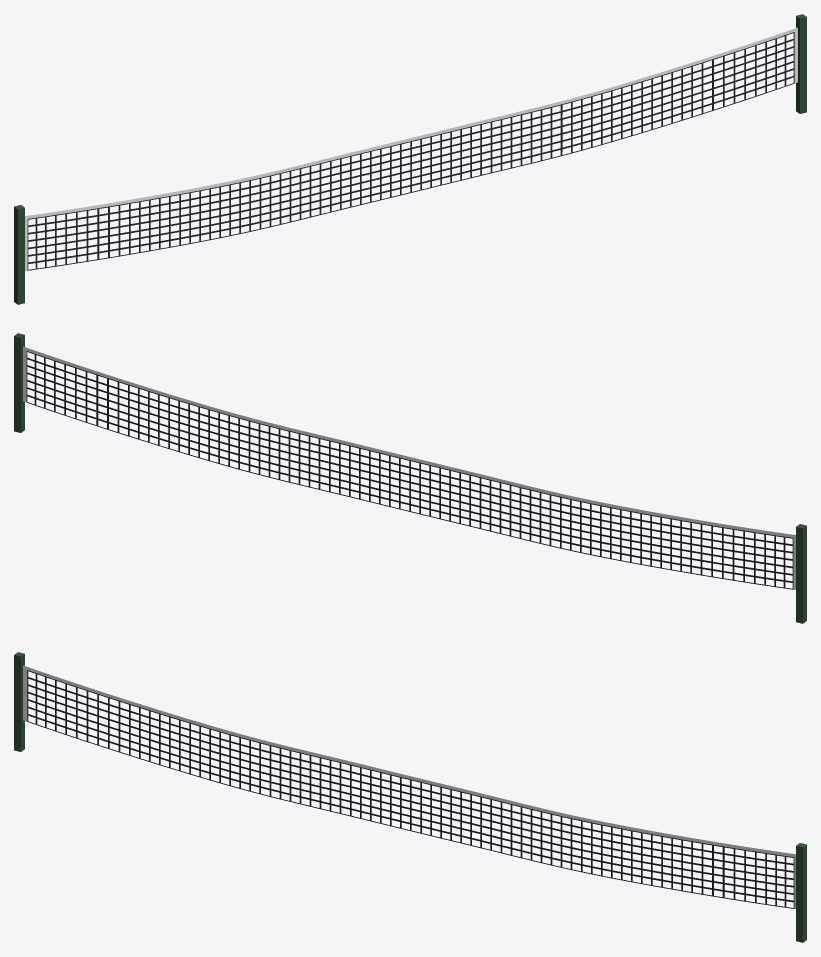
Rendered from 14 Net.FBX.
The picture shows the model from 3 angles, top to bottom: view 1: azimuth 30°, elevation 25°; view 2: azimuth 150°, elevation 25°; view 3: azimuth 330°, elevation 25°; orthographic projection.
Parts seen in each view (by area): view 1: Net; view 2: Net; view 3: Net.
Part boxes in pixels (x1,y1,x2,y2): Net: (14,14,806,304); Net: (14,333,806,623); Net: (14,652,806,942).
Bounding box in the file's own units: 8016 × 926 × 71.15.
